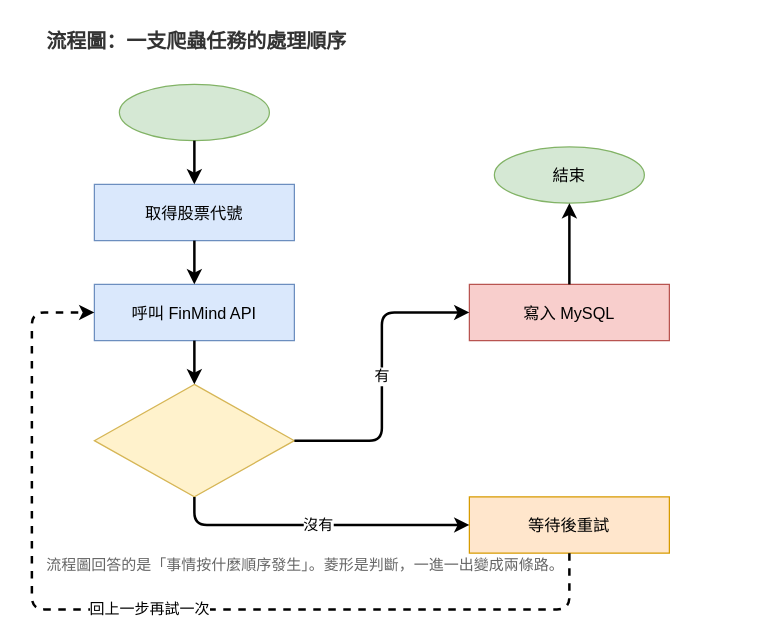
Some shapes in this 765 by 641 pixel diagram are drawn without their labels. Here are the shapes that lost their labels. From the top down, the centre of each, then its label:
(193,112): 開始
(193,440): 有拿到資料嗎
